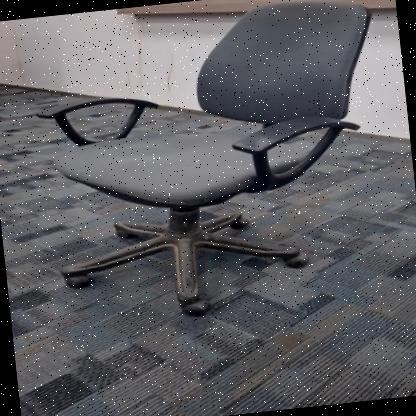chair: (18, 0, 408, 334)
